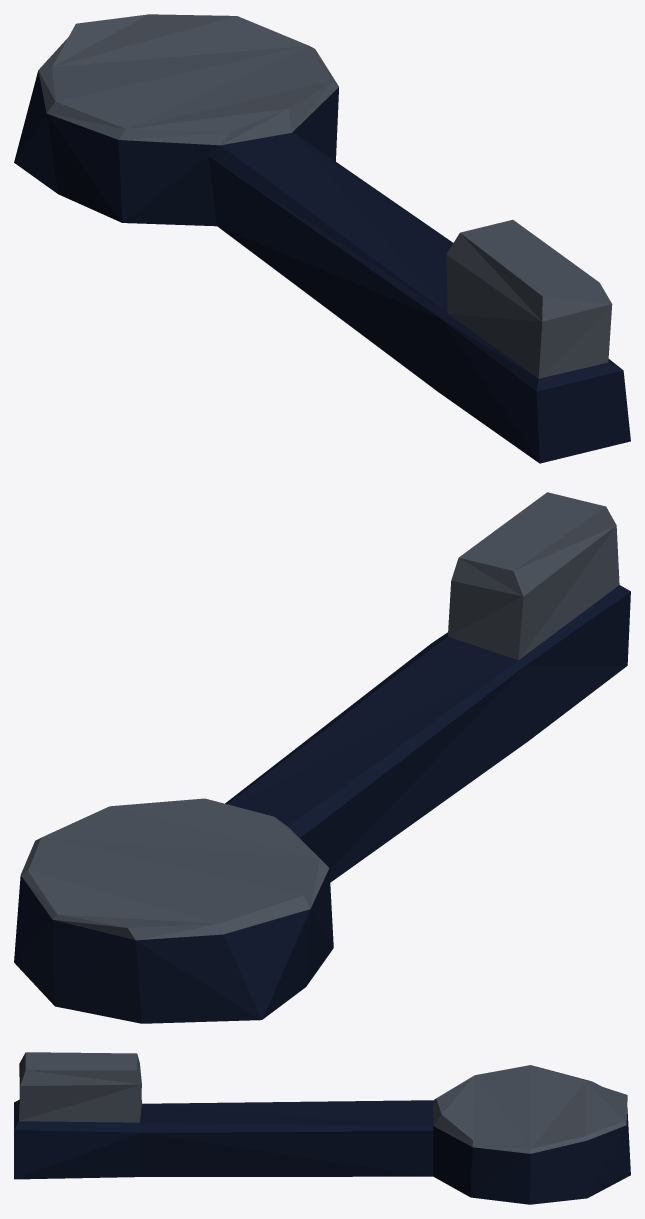
The model's file is single_rotator.FBX.
3 renders of one model, top to bottom at view 1: azimuth 30°, elevation 25°; view 2: azimuth 150°, elevation 25°; view 3: azimuth 270°, elevation 25°, orthographic. The views are drawn at different scales.
Parts seen in each view (by area): view 1: single_rotator; view 2: single_rotator; view 3: single_rotator.
Part boxes in pixels (left/top/right/bottom): single_rotator: left=14, top=14, right=630, bottom=463; single_rotator: left=14, top=492, right=630, bottom=1023; single_rotator: left=14, top=1052, right=630, bottom=1204.
Bounding box in the file's own units: 1.82 × 1.01 × 5.52.
